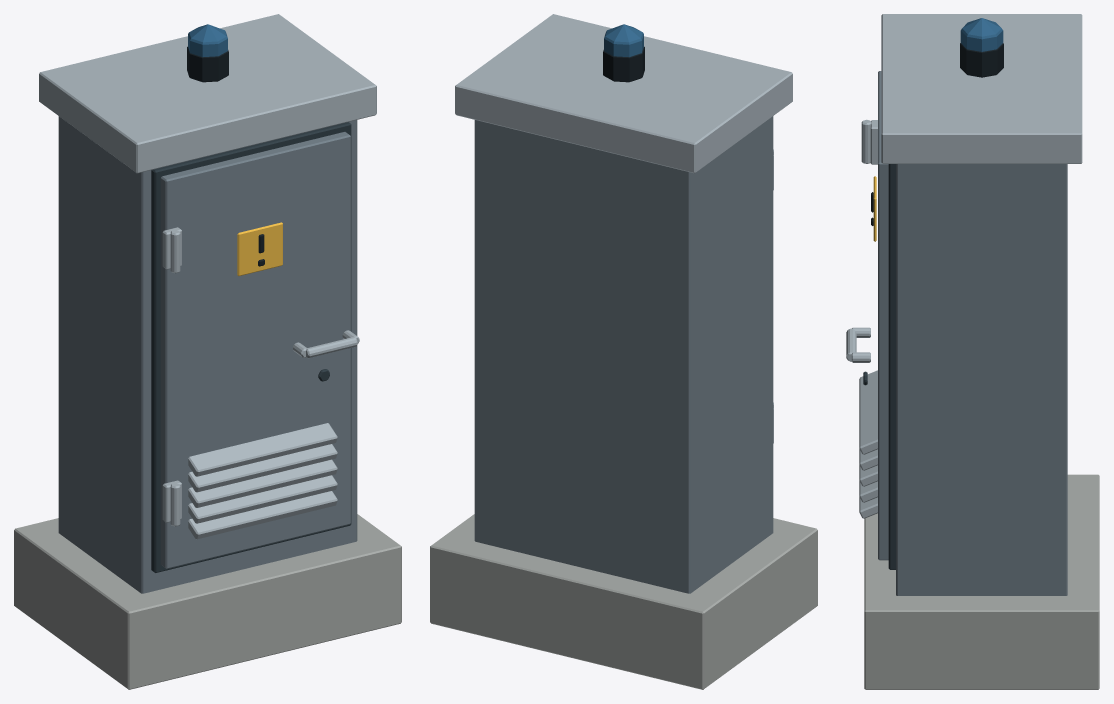
File: b05_streetlight_control_cabinet.glb
3 views of the same model, side by side, from view 1: azimuth 30°, elevation 25°; view 2: azimuth 150°, elevation 25°; view 3: azimuth 270°, elevation 25° (orthographic). The views are drawn at different scales.
Visible parts, largest first — view 1: b05_streetlight_control_cabinet; view 2: b05_streetlight_control_cabinet; view 3: b05_streetlight_control_cabinet.
Boxes of the visible parts, x1=… form: b05_streetlight_control_cabinet: x1=14, y1=14, x2=401, y2=689; b05_streetlight_control_cabinet: x1=430, y1=14, x2=817, y2=689; b05_streetlight_control_cabinet: x1=846, y1=14, x2=1099, y2=689.
Bounding box in the file's own units: 0.66 × 1.36 × 0.5165.
